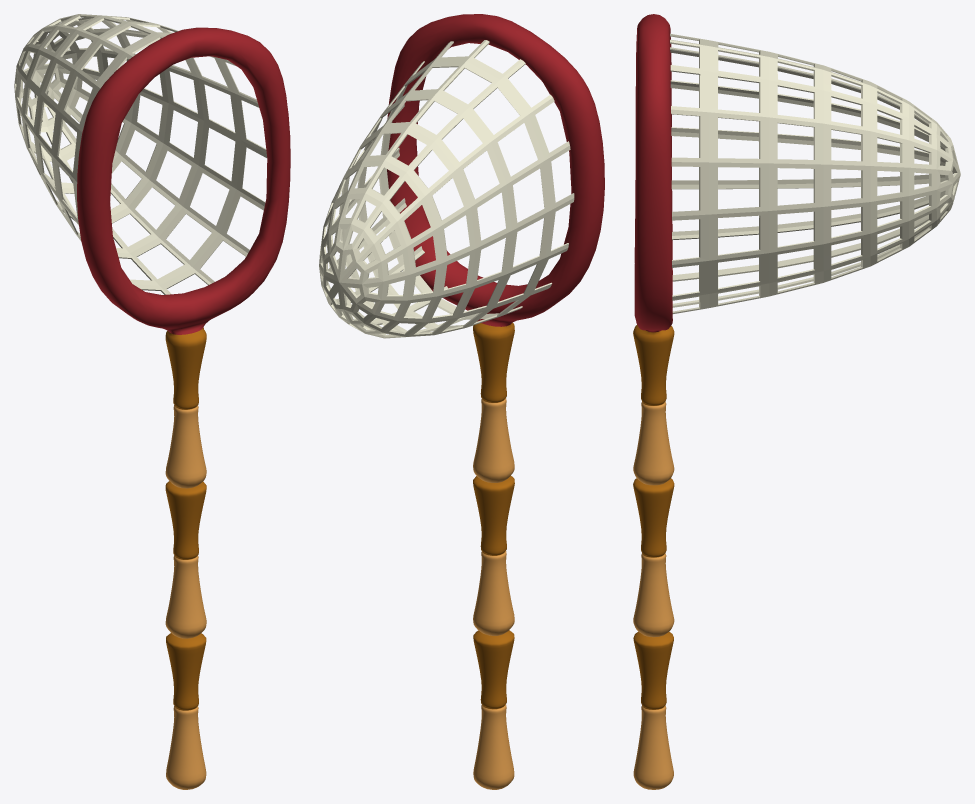
The model's file is SpongeBob's_Jellyfish_Cashing_Net (3).fbx.
3 renders of one model, left to right at view 1: azimuth 30°, elevation 25°; view 2: azimuth 150°, elevation 25°; view 3: azimuth 270°, elevation 25°, orthographic.
Parts seen in each view (by area): view 1: net, wood.001, wood; view 2: net, wood.001, wood; view 3: net, wood, wood.001.
Part boxes in pixels (box(x1,y1,x2,y2)): net: box(14, 14, 267, 294); wood.001: box(77, 27, 290, 334); wood: box(165, 327, 206, 789); net: box(319, 40, 574, 338); wood.001: box(387, 14, 604, 326); wood: box(473, 321, 514, 789); net: box(670, 33, 960, 313); wood: box(633, 325, 674, 789); wood.001: box(634, 14, 672, 332).
Size of the model in its own units: 619 by 2153 by 838.
